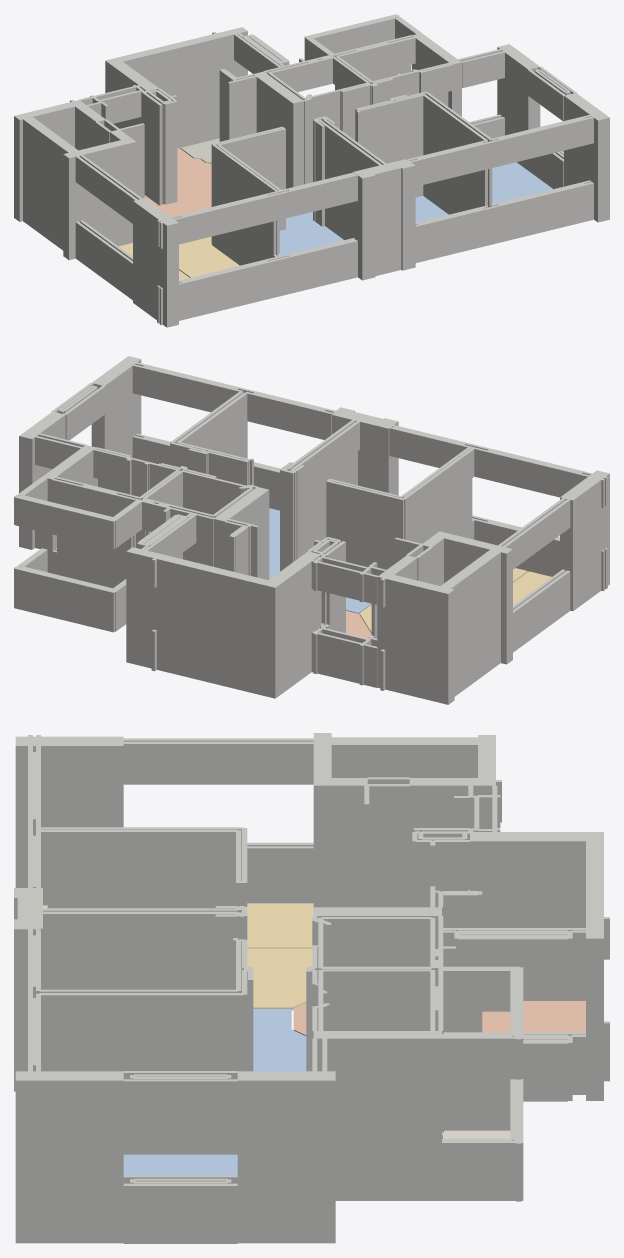
3 renders of one model, top to bottom at view 1: azimuth 30°, elevation 25°; view 2: azimuth 150°, elevation 25°; view 3: azimuth 270°, elevation 25°, orthographic. The views are drawn at different scales.
Visible parts, largest first — view 1: walls, room:kitchen:1, room:bedroom:8, room:bedroom:10, room:living:7, room:bedroom:9, room:yard:0; view 2: walls, room:bedroom:9, room:living:6, room:kitchen:1; view 3: walls, room:living:7, room:bedroom:8, room:living:6, room:kitchen:1, room:bedroom:10.
Boxes of the visible parts, x1,y1,x2,y2 form: walls: [14, 14, 609, 327]; room:kitchen:1: [144, 148, 211, 216]; room:bedroom:8: [279, 212, 343, 255]; room:bedroom:10: [492, 162, 552, 203]; room:living:7: [179, 236, 239, 277]; room:bedroom:9: [415, 196, 448, 222]; room:yard:0: [180, 138, 219, 163]; walls: [14, 356, 609, 704]; room:bedroom:9: [269, 508, 279, 579]; room:living:6: [513, 571, 551, 605]; room:kitchen:1: [346, 610, 371, 638]; walls: [14, 733, 609, 1243]; room:living:7: [247, 948, 312, 1010]; room:bedroom:8: [253, 1008, 306, 1071]; room:living:6: [43, 903, 313, 948]; room:kitchen:1: [293, 1001, 585, 1035]; room:bedroom:10: [123, 1154, 237, 1175].
Bounding box in the file's own units: 12.88 × 2.8 × 9.31.
